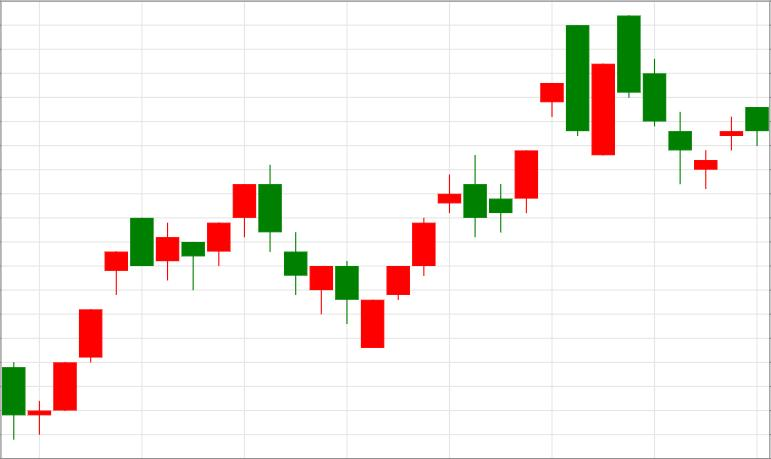bearish_engulfing_fall: (489, 26, 589, 234)
three_white_soldiers_rise: (259, 164, 436, 348)
